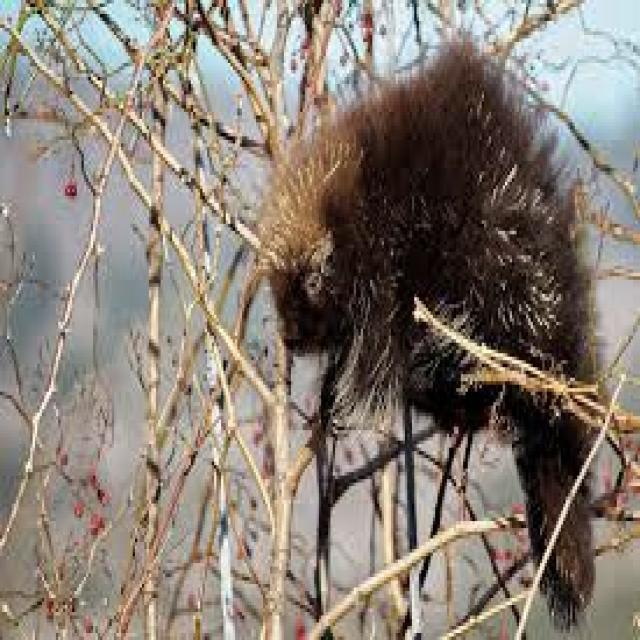porcupine: (261, 42, 591, 556)
